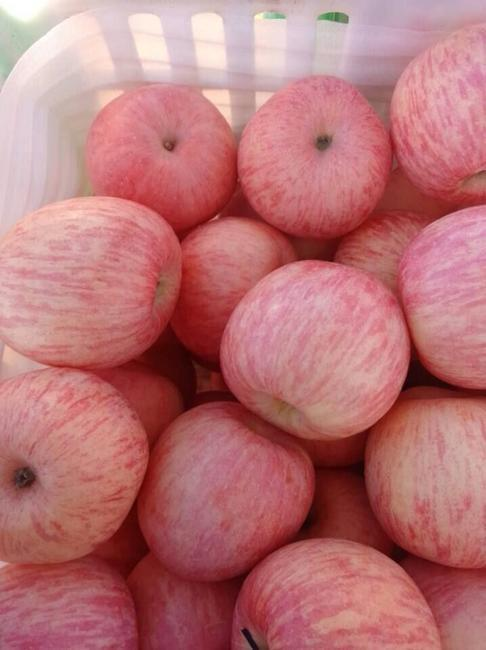apple: (216, 258, 411, 441), (137, 400, 314, 583), (3, 196, 184, 369), (2, 364, 150, 565), (235, 73, 391, 240), (84, 86, 238, 234), (362, 386, 486, 569), (387, 21, 482, 206)
